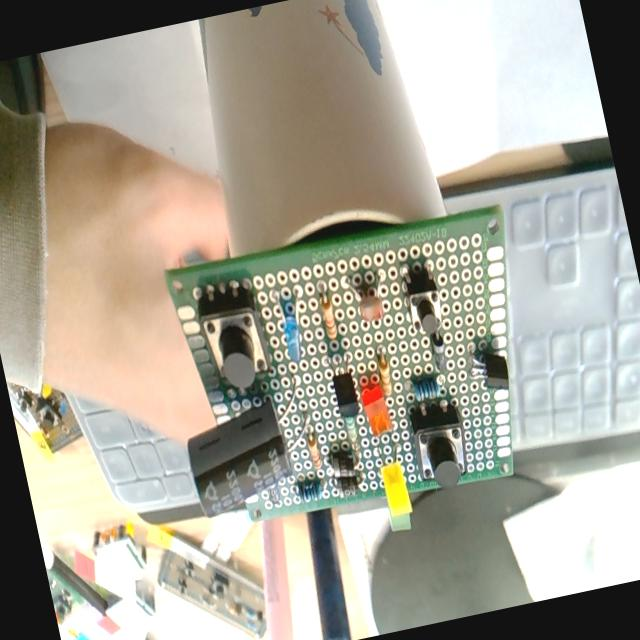Electrolytic capacitor: (178, 392, 302, 524)
cds: (349, 272, 388, 326)
diode: (327, 446, 358, 482), (429, 332, 450, 374), (332, 472, 361, 498)
led: (270, 280, 314, 369), (379, 461, 412, 516), (360, 386, 392, 438)
resistor: (318, 294, 339, 340), (375, 354, 395, 398), (411, 375, 442, 403), (296, 478, 324, 506), (305, 430, 323, 470), (344, 416, 362, 451)
switch: (192, 278, 274, 394), (406, 396, 476, 492), (401, 262, 446, 336)
transistor: (325, 349, 365, 422), (462, 344, 514, 398)
